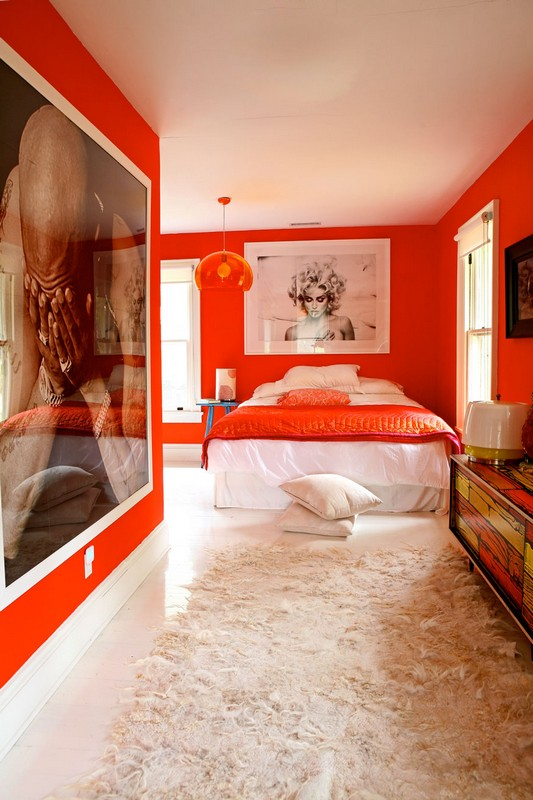bed: (222, 355, 449, 529)
lamp: (458, 387, 527, 473)
